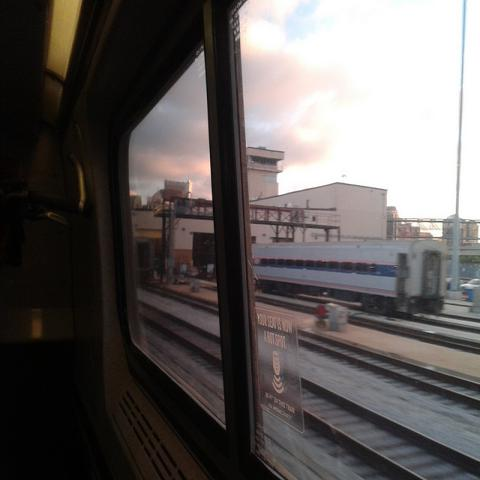car: (459, 278, 479, 291)
